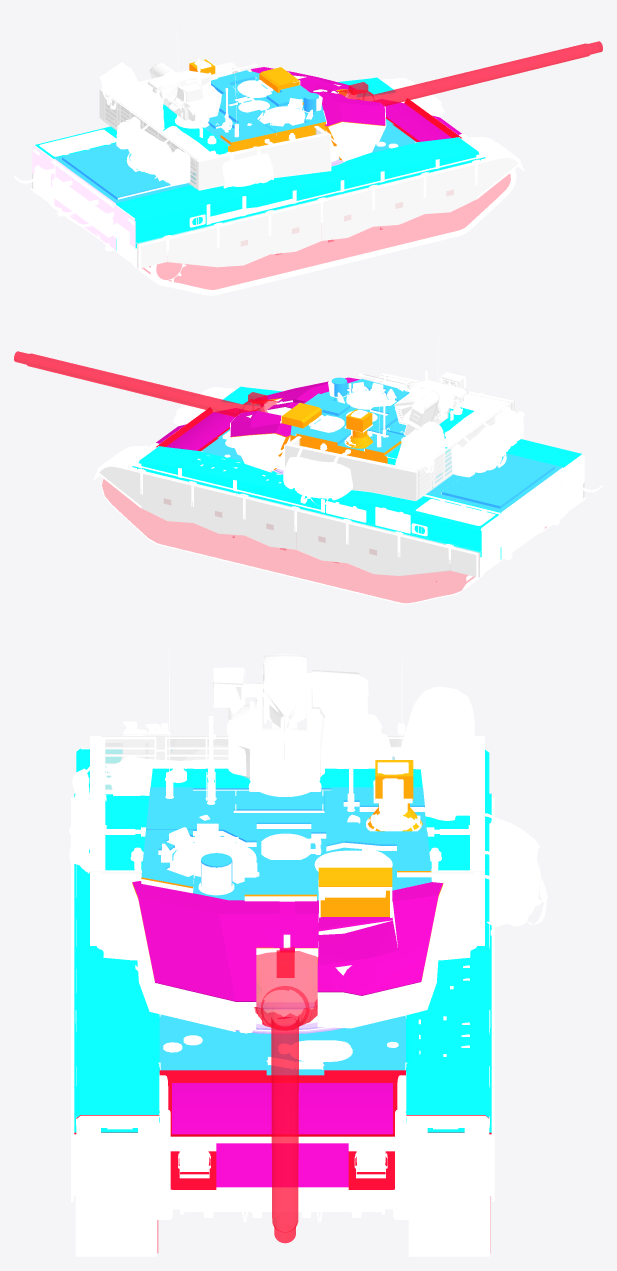
Rendered from ZTZ99.gltf.
3 views of the same model, one above another, from view 1: azimuth 30°, elevation 25°; view 2: azimuth 150°, elevation 25°; view 3: azimuth 270°, elevation 25° (orthographic). The views are drawn at different scales.
Parts seen in each view (by area): view 1: 14, ZTZ99_Hull_SideSkirt_Col2_11, ZTZ99_Hull_Col_2, 14_6, 14_4, ZTZ99_Tracks_Col_Right_2, 14_3, ZTZ99_Turret_col_spaced_48, ZTZ99_Hull_Col_1, ZTZ99_Turret_col_2, ZTZ99_Gun_Col_14, 14_5 (+8 smaller); view 2: 14, ZTZ99_Hull_SideSkirt_Col_8, ZTZ99_Hull_Col_2, 14_6, ZTZ99_Tracks_Col_Left_5, 14_4, 14_2, ZTZ99_Turret_col_spaced_48, ZTZ99_Hull_Col_1, ZTZ99_Gun_Col_14, ZTZ99_Turret_col_2, 14_5 (+8 smaller); view 3: 14_6, 14, ZTZ99_Hull_Col_2, ZTZ99_Turret_col_3, 14_4, ZTZ99_Hull_Col, ZTZ99_Turret_col_2, 14_5, ZTZ99_Gun_Col_14, ZTZ99_Hull_Col_1, ZTZ99_Hull_Col_5, ZTZ99_Turret_col_spaced_48 (+7 smaller).
Part boxes in pixels (x1,y1,x2,y2): 14: (14,78,524,287); ZTZ99_Hull_SideSkirt_Col2_11: (137,155,518,268); ZTZ99_Hull_Col_2: (35,77,485,250); 14_6: (100,17,386,190); 14_4: (99,62,274,188); ZTZ99_Tracks_Col_Right_2: (142,174,510,289); 14_3: (132,169,516,295); ZTZ99_Turret_col_spaced_48: (99,62,330,190); ZTZ99_Hull_Col_1: (54,99,416,203); ZTZ99_Turret_col_2: (205,70,339,159); ZTZ99_Gun_Col_14: (338,41,602,106); 14_5: (148,63,257,128); 14: (93,387,602,596); ZTZ99_Hull_SideSkirt_Col_8: (99,464,479,577); ZTZ99_Hull_Col_2: (132,386,581,559); 14_6: (229,330,514,501); ZTZ99_Tracks_Col_Left_5: (102,479,474,602); 14_4: (283,393,524,505); 14_2: (101,478,484,604); ZTZ99_Turret_col_spaced_48: (285,373,514,500); ZTZ99_Hull_Col_1: (201,409,562,512); ZTZ99_Gun_Col_14: (14,351,277,417); ZTZ99_Turret_col_2: (290,377,451,456); 14_5: (359,372,467,435); 14_6: (90,645,484,1033); 14: (71,723,494,1222); ZTZ99_Hull_Col_2: (74,748,491,1132); ZTZ99_Turret_col_3: (132,881,442,1001); 14_4: (69,686,547,926); ZTZ99_Hull_Col: (172,1083,392,1187); ZTZ99_Turret_col_2: (141,787,431,900); 14_5: (213,656,368,796); ZTZ99_Gun_Col_14: (254,946,317,1243); ZTZ99_Hull_Col_1: (159,749,405,1075); ZTZ99_Hull_Col_5: (74,1070,491,1189); ZTZ99_Turret_col_spaced_48: (90,734,484,873).
Bounding box in the file's own units: 11.32 × 4.11 × 4.23.
